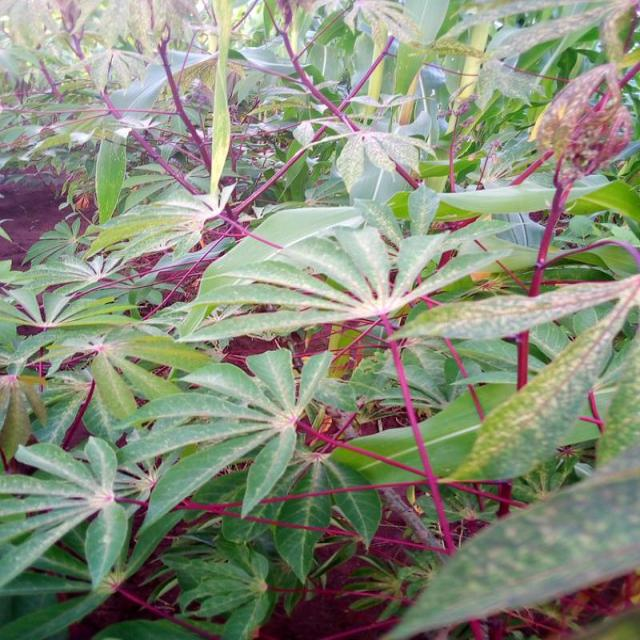cassava leaf: (1, 1, 638, 637), (381, 443, 638, 638)
